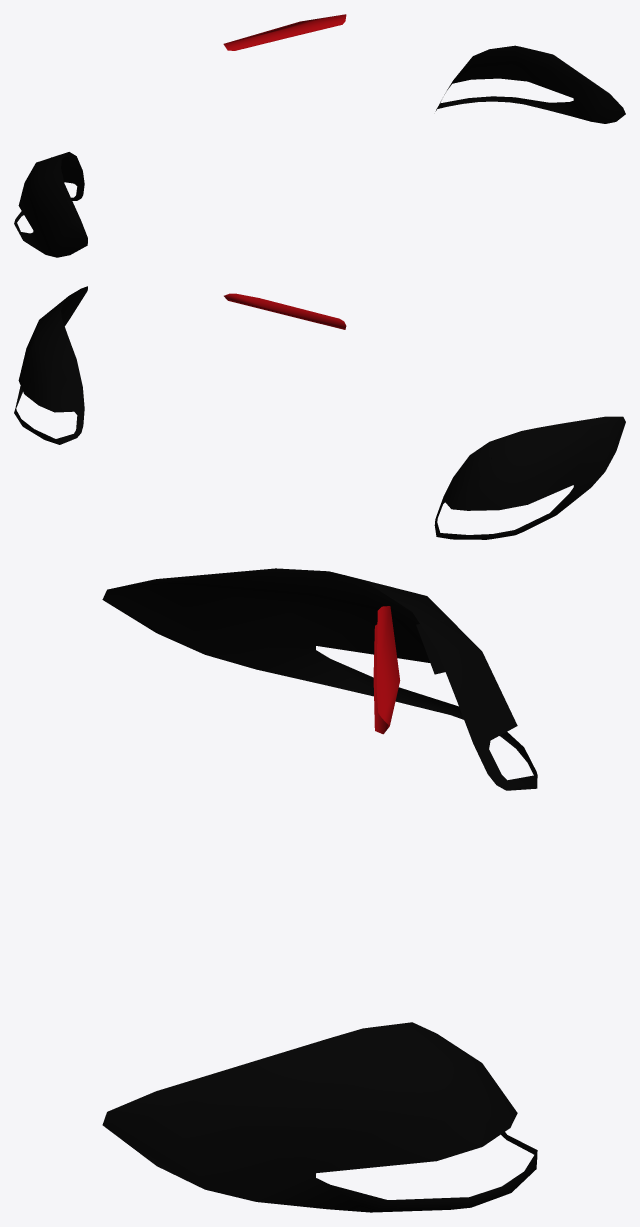
File: brake_light_optimized_0.4.dae
3 renders of one model, top to bottom at view 1: azimuth 30°, elevation 25°; view 2: azimuth 150°, elevation 25°; view 3: azimuth 270°, elevation 25°, orthographic. The views are drawn at different scales.
Visible parts, largest first — view 1: detail_gla_001_001; view 2: detail_gla_001_001; view 3: detail_gla_001_001.
Boxes of the visible parts, x1,y1,x2,y2 form: detail_gla_001_001: (14, 14, 625, 257); detail_gla_001_001: (14, 286, 625, 539); detail_gla_001_001: (102, 568, 537, 1212).
Size of the model in its own units: 1.48 by 0.509 by 0.404.
